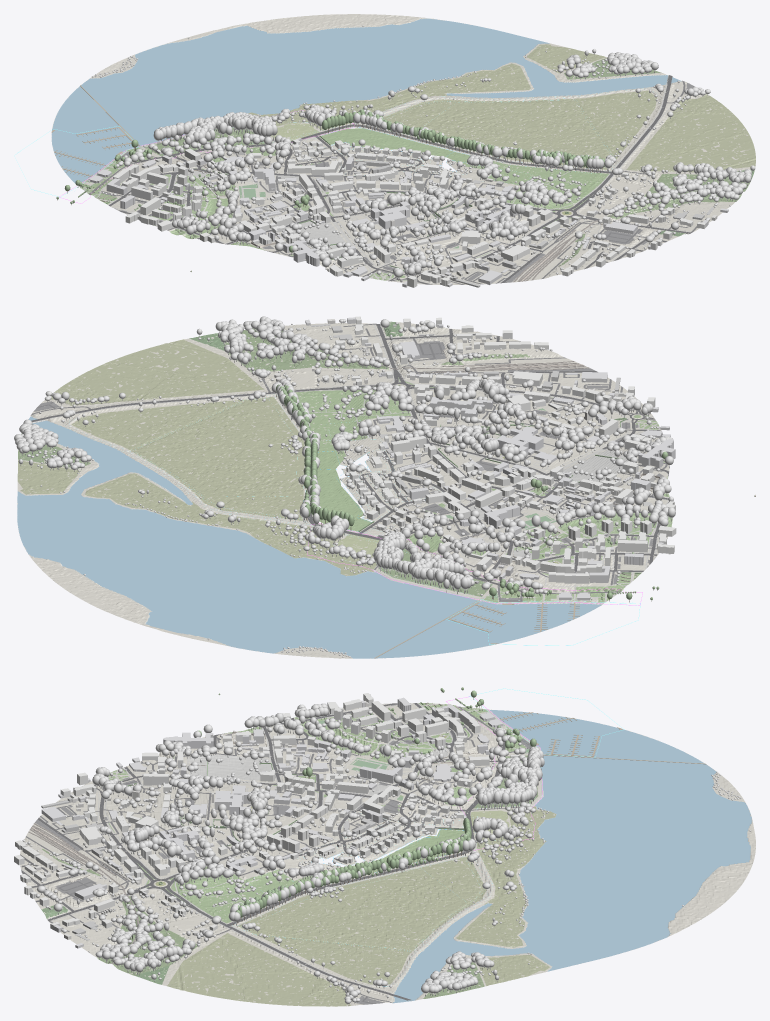
The model's file is context.glb.
3 renders of one model, top to bottom at view 1: azimuth 30°, elevation 25°; view 2: azimuth 150°, elevation 25°; view 3: azimuth 270°, elevation 25°, orthographic. The views are drawn at different scales.
Visible parts, largest first — view 1: WATER_SURFACE_01, TERRAIN_CONTEXT_NMT_2m, TREES_DETECTED_CONTEXT_nDSM, GREEN_WETLAND_REEDS_001, GREEN_WETLAND_REEDS_002, GREEN_WETLAND_REEDS_003, GREEN_LAWN_PARK_001_ON_SITE, GREEN_WETLAND_REEDS_004, GREEN_SCRUB_001, GREEN_LAWN_PARK_001, ROAD_Dziwnowska, GREEN_LAWN_PARK_002 (+5 smaller); view 2: WATER_SURFACE_01, TERRAIN_CONTEXT_NMT_2m, TREES_DETECTED_CONTEXT_nDSM, GREEN_WETLAND_REEDS_001, GREEN_WETLAND_REEDS_002, GREEN_WETLAND_REEDS_003, GREEN_LAWN_PARK_001_ON_SITE, GREEN_SCRUB_001, GREEN_WETLAND_REEDS_004, GREEN_LAWN_PARK_001, PATH_Plac 5-go Marca, ROAD_Dziwnowska (+3 smaller); view 3: WATER_SURFACE_01, TERRAIN_CONTEXT_NMT_2m, TREES_DETECTED_CONTEXT_nDSM, GREEN_WETLAND_REEDS_001, GREEN_WETLAND_REEDS_002, GREEN_WETLAND_REEDS_003, PATH_Plac 5-go Marca, GREEN_WETLAND_REEDS_004, ROAD_Dziwnowska, GREEN_SCRUB_001, GREEN_LAWN_PARK_001, GREEN_LAWN_PARK_002 (+2 smaller).
Boxes of the visible parts, left/top/right/bottom form: WATER_SURFACE_01: left=51, top=18, right=681, bottom=183; TERRAIN_CONTEXT_NMT_2m: left=51, top=14, right=755, bottom=284; TREES_DETECTED_CONTEXT_nDSM: left=88, top=25, right=751, bottom=280; GREEN_WETLAND_REEDS_001: left=383, top=90, right=656, bottom=169; GREEN_WETLAND_REEDS_002: left=626, top=94, right=755, bottom=172; GREEN_WETLAND_REEDS_003: left=248, top=63, right=530, bottom=130; GREEN_LAWN_PARK_001_ON_SITE: left=321, top=128, right=479, bottom=165; GREEN_WETLAND_REEDS_004: left=527, top=44, right=606, bottom=73; GREEN_SCRUB_001: left=607, top=173, right=749, bottom=219; GREEN_LAWN_PARK_001: left=454, top=161, right=568, bottom=203; ROAD_Dziwnowska: left=418, top=75, right=672, bottom=274; GREEN_LAWN_PARK_002: left=548, top=170, right=608, bottom=203; WATER_SURFACE_01: left=17, top=416, right=601, bottom=658; TERRAIN_CONTEXT_NMT_2m: left=17, top=321, right=669, bottom=658; TREES_DETECTED_CONTEXT_nDSM: left=14, top=316, right=675, bottom=657; GREEN_WETLAND_REEDS_001: left=71, top=397, right=304, bottom=520; GREEN_WETLAND_REEDS_002: left=51, top=339, right=264, bottom=405; GREEN_WETLAND_REEDS_003: left=85, top=473, right=376, bottom=575; GREEN_LAWN_PARK_001_ON_SITE: left=317, top=451, right=371, bottom=531; GREEN_SCRUB_001: left=224, top=328, right=388, bottom=371; GREEN_WETLAND_REEDS_004: left=17, top=460, right=81, bottom=494; GREEN_LAWN_PARK_001: left=309, top=412, right=410, bottom=463; PATH_Plac 5-go Marca: left=563, top=450, right=637, bottom=482; ROAD_Dziwnowska: left=31, top=384, right=617, bottom=422; WATER_SURFACE_01: left=392, top=710, right=752, bottom=1003; TERRAIN_CONTEXT_NMT_2m: left=20, top=703, right=755, bottom=1006; TREES_DETECTED_CONTEXT_nDSM: left=22, top=703, right=751, bottom=1005; GREEN_WETLAND_REEDS_001: left=238, top=856, right=486, bottom=984; GREEN_WETLAND_REEDS_002: left=167, top=933, right=350, bottom=1006; GREEN_WETLAND_REEDS_003: left=456, top=806, right=556, bottom=947; PATH_Plac 5-go Marca: left=189, top=755, right=271, bottom=780; GREEN_WETLAND_REEDS_004: left=479, top=955, right=549, bottom=985; ROAD_Dziwnowska: left=99, top=791, right=410, bottom=1000; GREEN_SCRUB_001: left=97, top=896, right=197, bottom=975; GREEN_LAWN_PARK_001: left=232, top=869, right=331, bottom=900; GREEN_LAWN_PARK_002: left=178, top=892, right=244, bottom=923.
Size of the model in its own units: 1302 by 42.85 by 1285.
